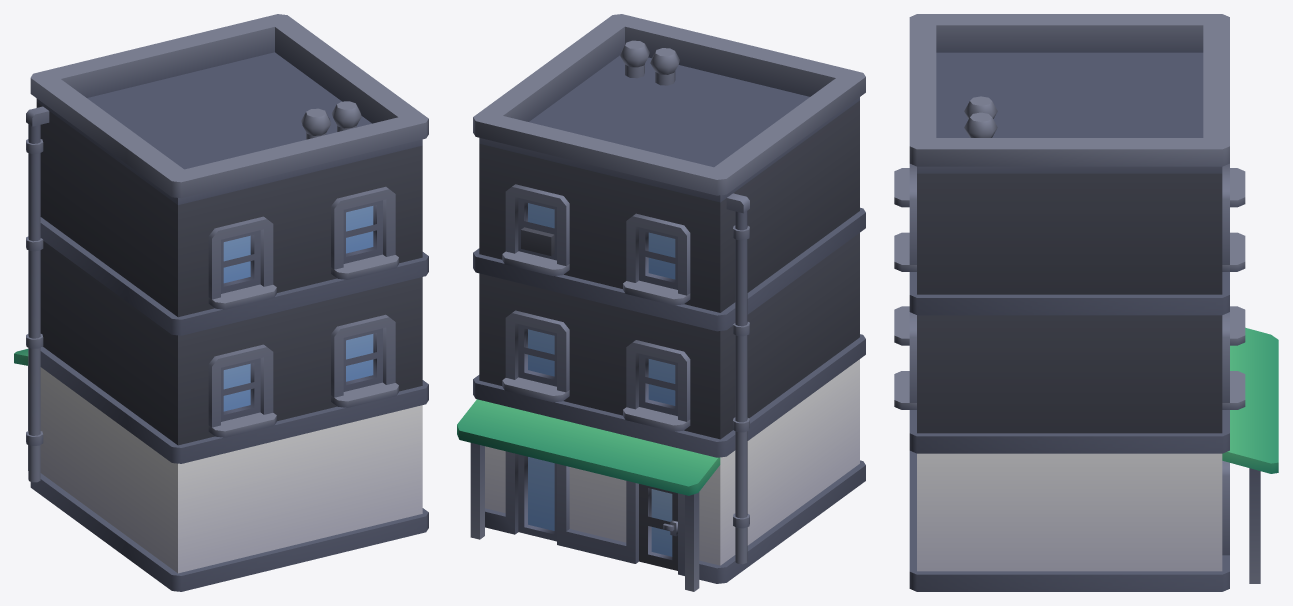
File: building-h.glb
3 renders of one model, left to right at view 1: azimuth 30°, elevation 25°; view 2: azimuth 150°, elevation 25°; view 3: azimuth 270°, elevation 25°, orthographic. The views are drawn at different scales.
Parts seen in each view (by area): view 1: building-h; view 2: building-h; view 3: building-h.
Boxes of the visible parts, x1=… form: building-h: x1=14, y1=14, x2=428, y2=591; building-h: x1=457, y1=14, x2=865, y2=591; building-h: x1=894, y1=14, x2=1278, y2=591.
Bounding box in the file's own units: 0.8837 × 1.29 × 1.01.
Materials: 1 (1 with a texture image).
